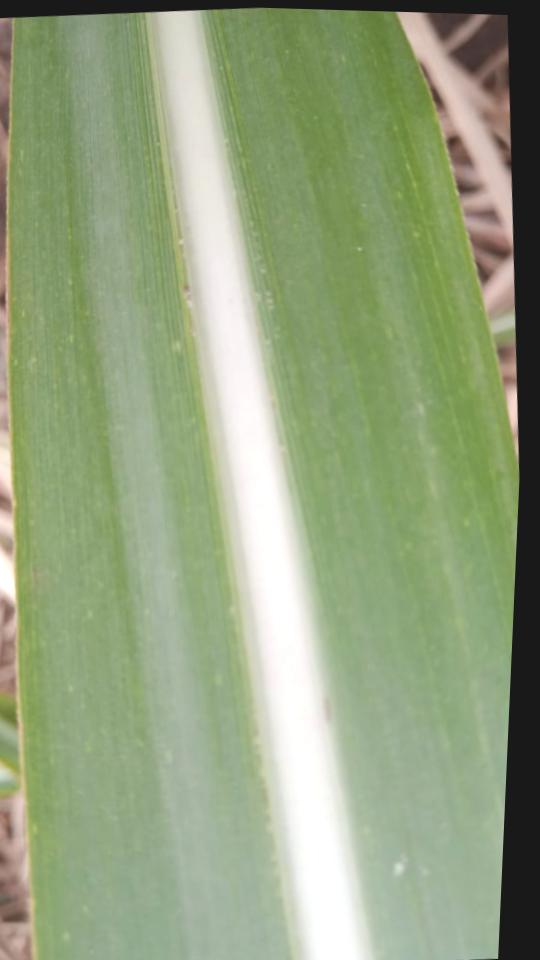Healthy: (7, 8, 518, 960)
